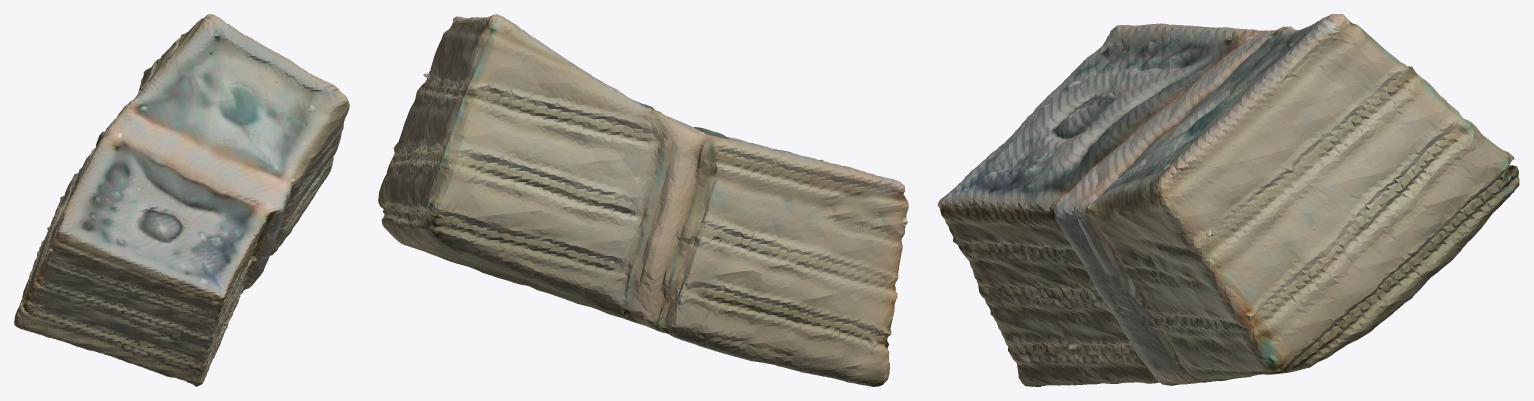
The model's file is money.glb.
3 renders of one model, left to right at view 1: azimuth 30°, elevation 25°; view 2: azimuth 150°, elevation 25°; view 3: azimuth 270°, elevation 25°, orthographic. The views are drawn at different scales.
Visible parts, largest first — view 1: geometry_0; view 2: geometry_0; view 3: geometry_0.
Boxes of the visible parts, x1,y1,x2,y2 form: geometry_0: (14,14,349,386); geometry_0: (378,14,908,386); geometry_0: (937,14,1519,386).
Size of the model in its own units: 0.8663 by 0.6854 by 0.7894.
1 material, 1 textured.
